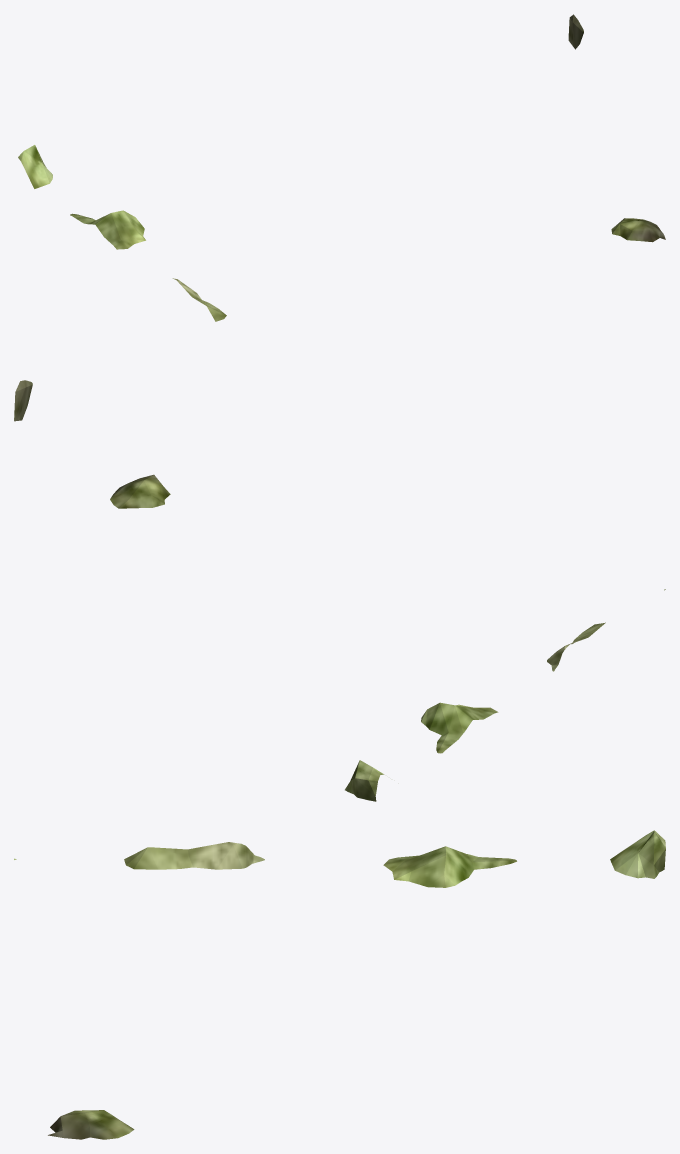
3 views of the same model, one above another, from view 1: azimuth 30°, elevation 25°; view 2: azimuth 150°, elevation 25°; view 3: azimuth 270°, elevation 25° (orthographic). The views are drawn at different scales.
Size of the model in its own units: 2.95 by 0.9961 by 2.9.
1 material, 1 textured.
